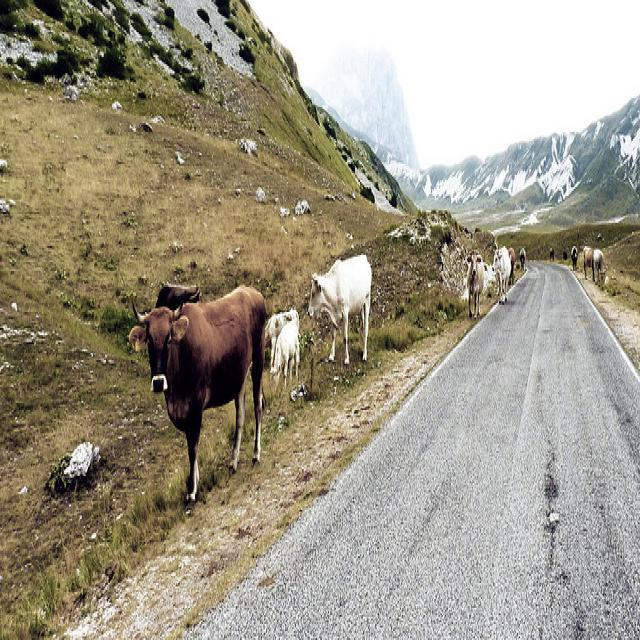cow: (128, 280, 266, 503), (307, 251, 370, 364), (266, 317, 299, 394), (491, 243, 511, 303), (153, 282, 198, 307), (581, 243, 608, 284), (466, 251, 483, 314), (508, 244, 515, 282), (518, 243, 525, 269), (569, 243, 576, 268)
